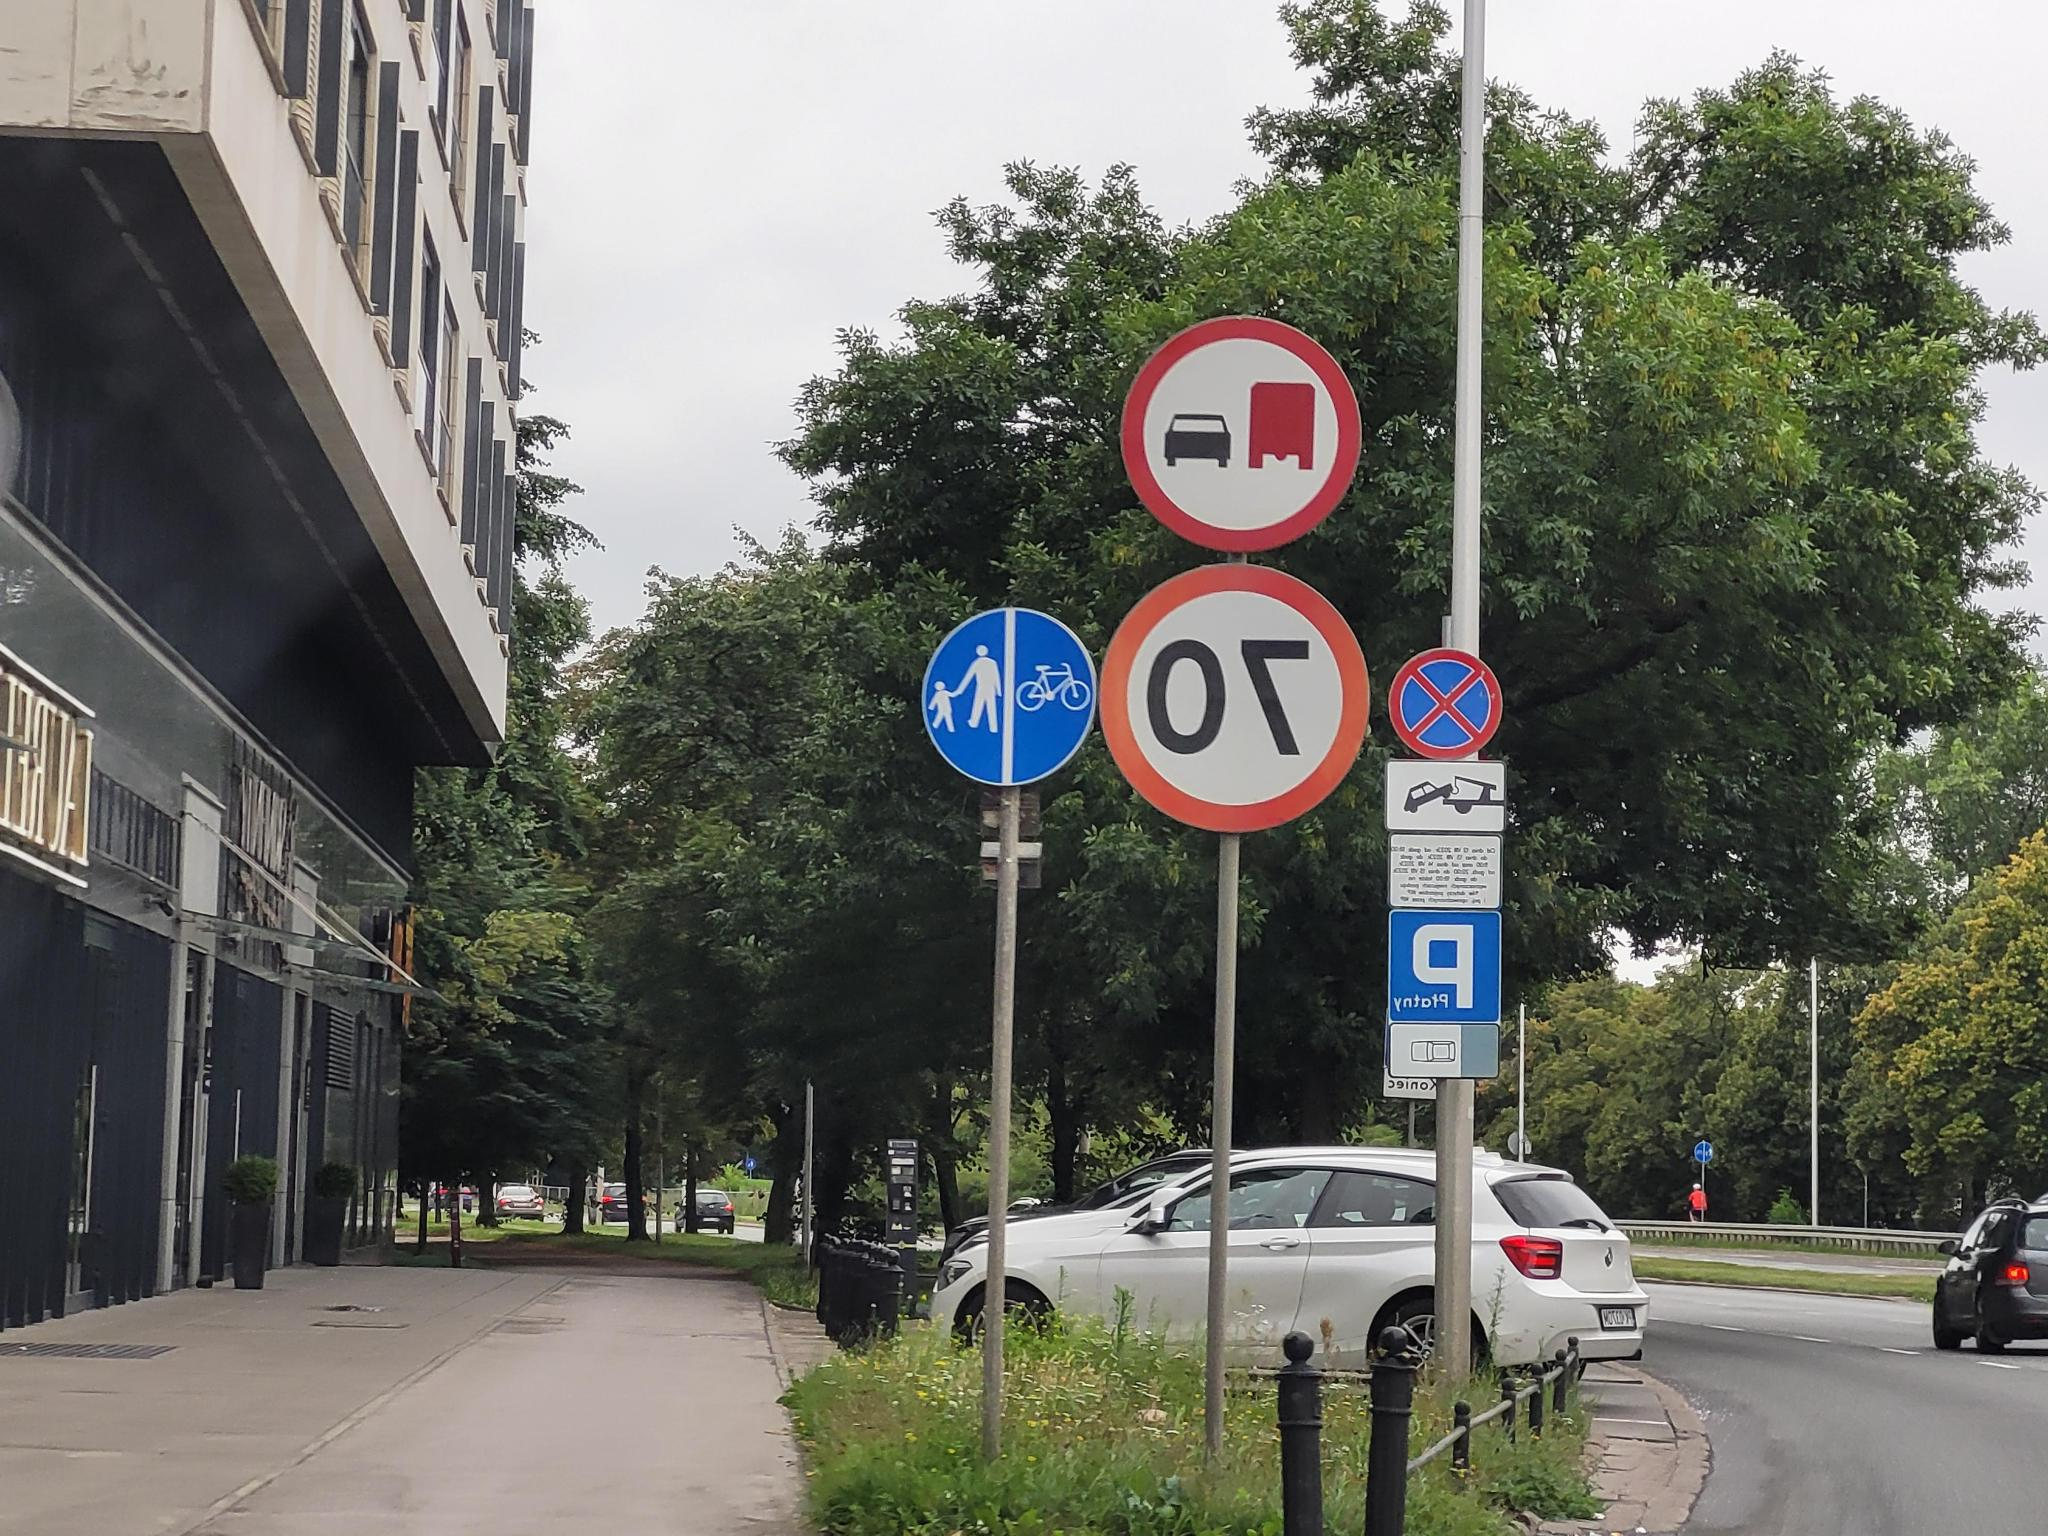information: (1387, 912, 1500, 1023), (1388, 912, 1501, 1020)
mandatory: (921, 607, 1097, 791), (1693, 1141, 1714, 1163)
other: (1385, 758, 1505, 831), (1387, 836, 1500, 910), (1392, 1026, 1498, 1078)
prohibitory: (1098, 561, 1371, 833), (1121, 313, 1364, 555), (1388, 647, 1501, 758)
